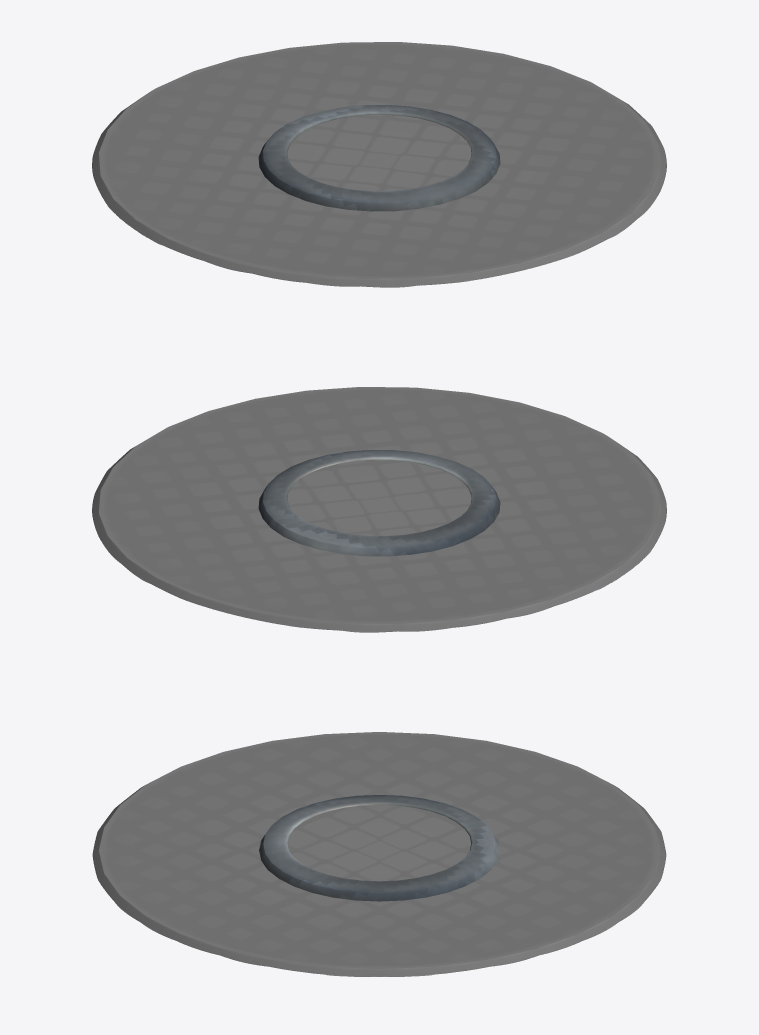
File: pref_TPC_v2_NeutralScoreArea03_purple_static_lv2.fbx
3 views of the same model, one above another, from view 1: azimuth 30°, elevation 25°; view 2: azimuth 150°, elevation 25°; view 3: azimuth 270°, elevation 25° (orthographic).
Parts seen in each view (by area): view 1: sm_prop_platform06a_lv2, sm_prop_platform06b_lv2; view 2: sm_prop_platform06a_lv2, sm_prop_platform06b_lv2; view 3: sm_prop_platform06a_lv2, sm_prop_platform06b_lv2.
Part boxes in pixels (left/top/right/bottom): sm_prop_platform06a_lv2: left=92, top=42, right=666, bottom=287; sm_prop_platform06b_lv2: left=258, top=104, right=500, bottom=211; sm_prop_platform06a_lv2: left=92, top=387, right=666, bottom=632; sm_prop_platform06b_lv2: left=258, top=449, right=500, bottom=556; sm_prop_platform06a_lv2: left=92, top=732, right=666, bottom=976; sm_prop_platform06b_lv2: left=259, top=795, right=499, bottom=901.
Size of the model in its own units: 7.46 by 0.2872 by 7.46.
